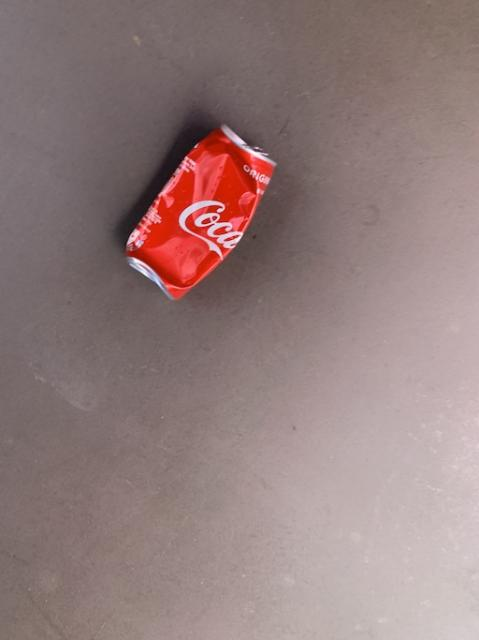metal: (126, 125, 274, 297)
